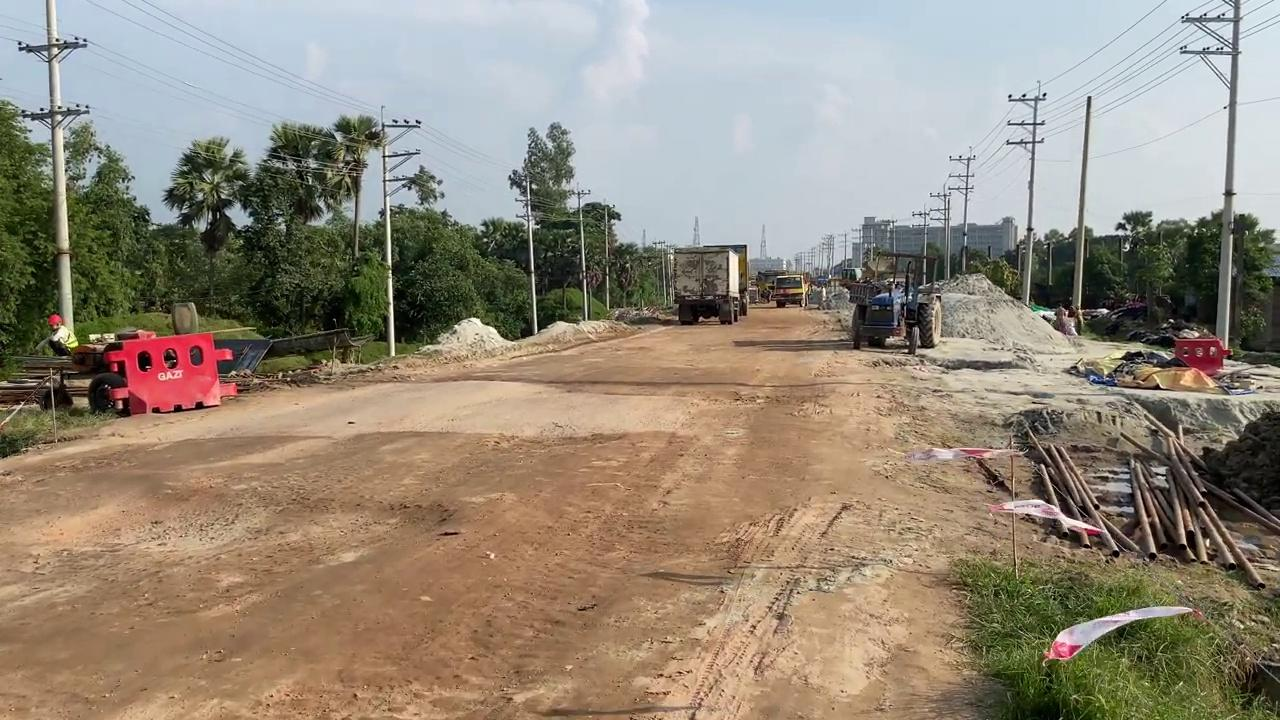Construction-barrier: (90, 330, 238, 416)
Pole: (44, 0, 75, 336), (1214, 1, 1241, 353), (1071, 94, 1091, 334), (380, 104, 396, 357), (525, 176, 538, 335)
Traffic-sign: (161, 134, 251, 318), (507, 119, 575, 334)
Tree: (841, 251, 942, 355), (669, 243, 748, 325), (755, 268, 787, 303)
